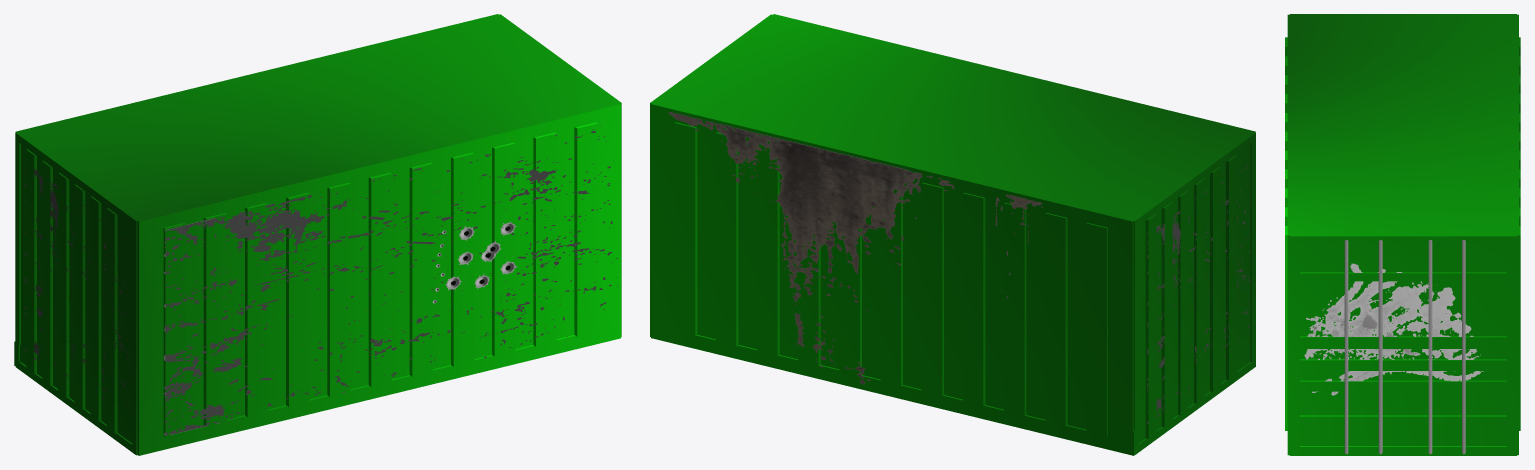
Rendered from SM_Bld_RobotBase_Container.fbx.
3 views of the same model, side by side, from view 1: azimuth 30°, elevation 25°; view 2: azimuth 150°, elevation 25°; view 3: azimuth 270°, elevation 25° (orthographic). The views are drawn at different scales.
Visible parts, largest first — view 1: SM_Bld_RobotBase_Container; view 2: SM_Bld_RobotBase_Container; view 3: SM_Bld_RobotBase_Container.
Boxes of the visible parts, x1,y1,x2,y2 form: SM_Bld_RobotBase_Container: (14,14,621,455); SM_Bld_RobotBase_Container: (650,14,1255,455); SM_Bld_RobotBase_Container: (1285,14,1520,455).
Bounding box in the file's own units: 1236 × 567 × 552.
